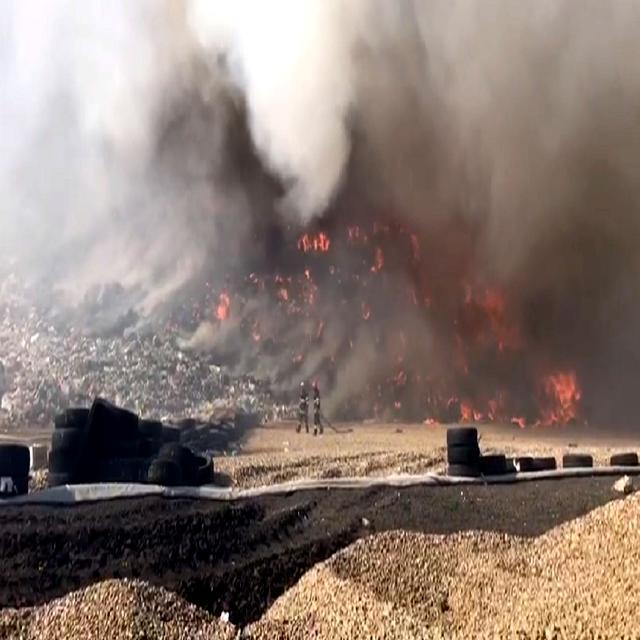Fire: (536, 367, 582, 430), (309, 380, 322, 436), (297, 231, 330, 253)
Smoke: (76, 0, 638, 460)
